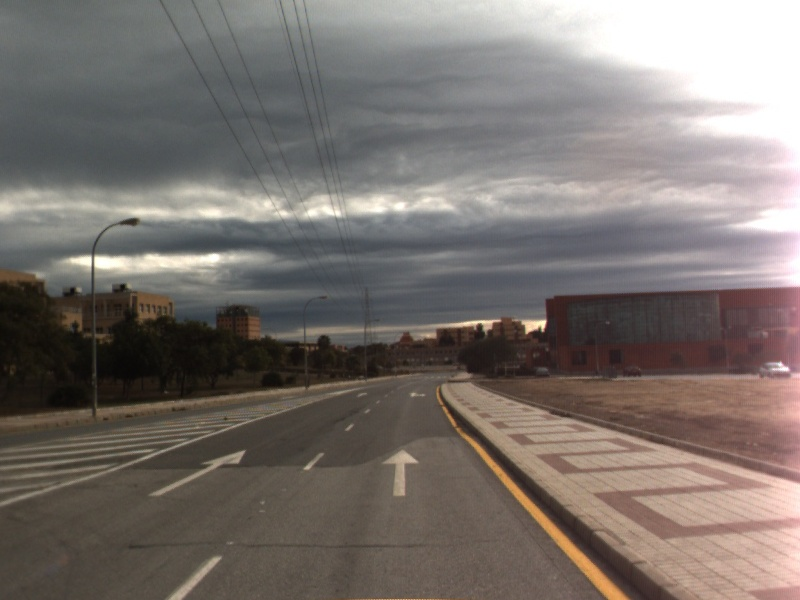STRAIGHT: (146, 448, 249, 498), (379, 447, 422, 498)
